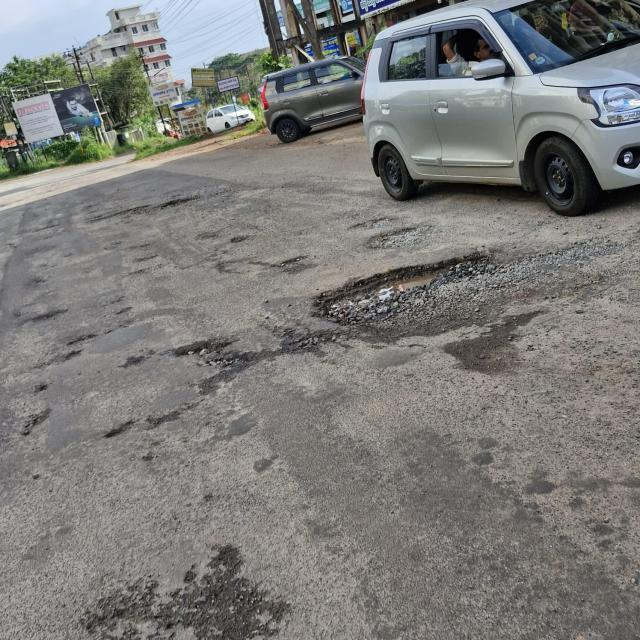pothole: (307, 245, 519, 322)
